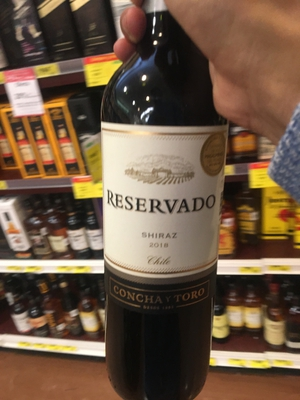reservado shiraz: (94, 20, 238, 379)
